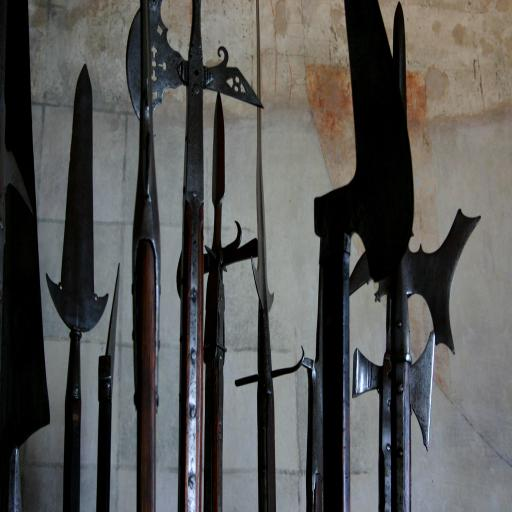Axe: (350, 332, 437, 511)
